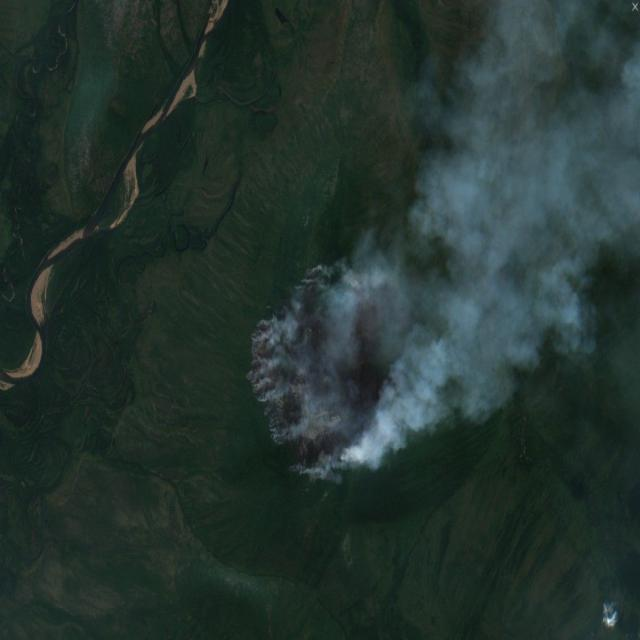fire: (243, 255, 393, 488)
